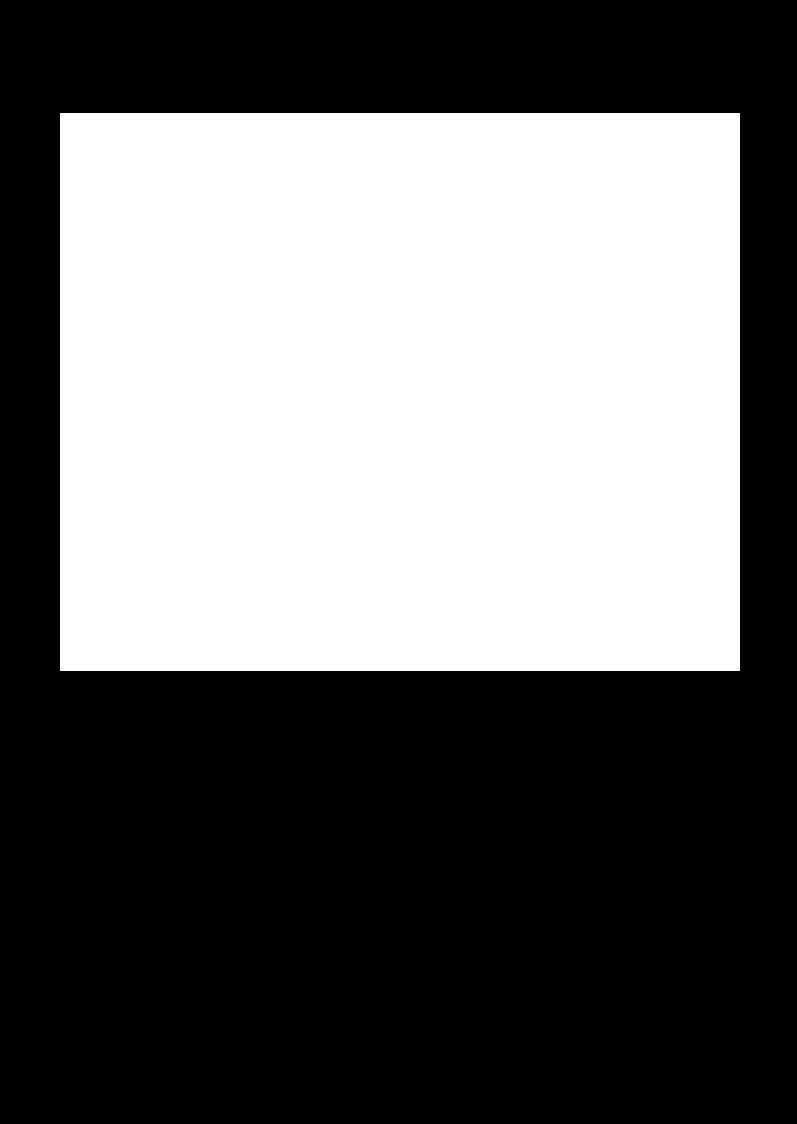table: (60, 113, 739, 670)
